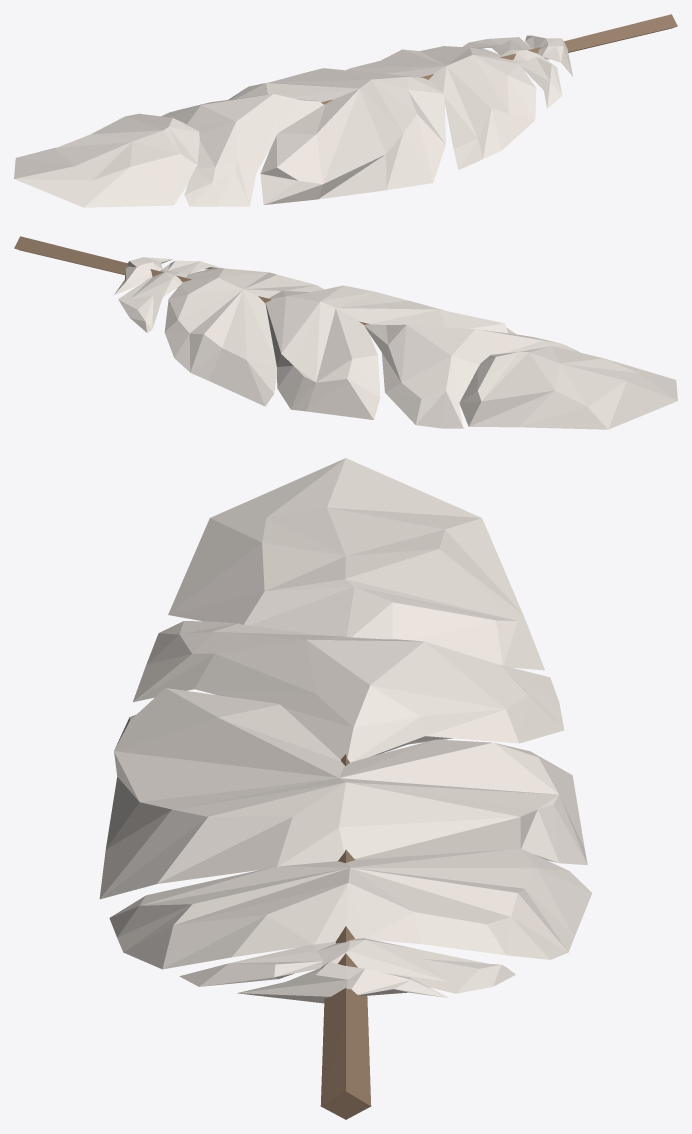
Rendered from Feather_01.FBX.
3 views of the same model, one above another, from view 1: azimuth 30°, elevation 25°; view 2: azimuth 150°, elevation 25°; view 3: azimuth 270°, elevation 25° (orthographic). The views are drawn at different scales.
Parts seen in each view (by area): view 1: Feather_01; view 2: Feather_01; view 3: Feather_01.
Boxes of the visible parts, x1,y1,x2,y2 form: Feather_01: [14, 14, 677, 207]; Feather_01: [14, 236, 677, 429]; Feather_01: [99, 458, 592, 1119].
Bounding box in the file's own units: 3.64 × 0.3285 × 1.18.
